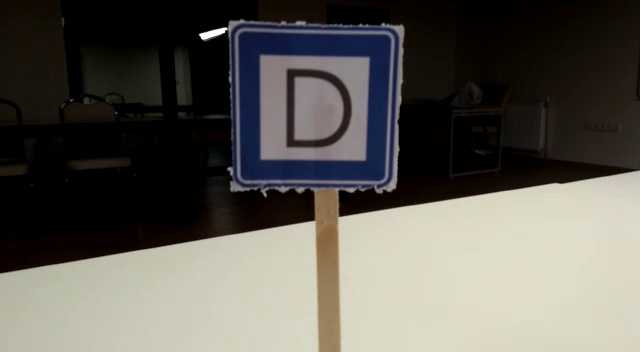durak: (232, 25, 400, 193)
